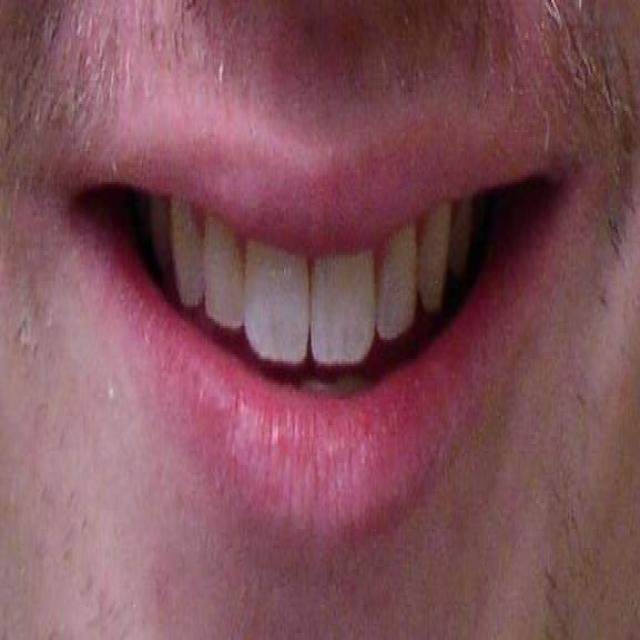tooth: (240, 245, 306, 368), (313, 257, 376, 364), (378, 234, 421, 335), (206, 220, 241, 328), (173, 208, 206, 309), (423, 206, 449, 316), (149, 196, 175, 288), (448, 203, 474, 283)
